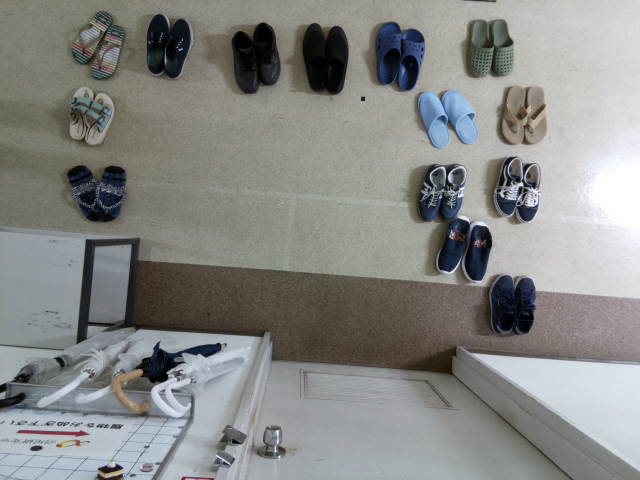Copy of Copy of Copy of Copy of Copy of Copy of Copy of Copy of Copy of Copy of: (296, 17, 334, 97), (249, 16, 287, 96), (223, 26, 261, 106), (159, 14, 199, 90), (318, 21, 356, 100), (68, 6, 115, 66), (441, 86, 484, 150), (413, 88, 456, 151), (372, 18, 407, 88), (141, 9, 175, 81), (90, 18, 128, 82), (394, 25, 430, 92), (485, 15, 521, 78), (462, 17, 497, 80), (93, 162, 128, 224), (83, 88, 117, 150), (64, 160, 98, 222), (63, 84, 95, 146)
Copy of Copy of Copy of Copy of Copy of Copy of Copy of Copy of Copy of shoe: (497, 80, 528, 148)
Copy of Copy of Copy of Copy of Copy of Copy of Copy of Copy of shoe: (518, 83, 549, 151)
Copy of Copy of Copy of Copy of Copy of Copy of Copy of shoe: (511, 160, 548, 228)
Copy of Copy of Copy of Copy of Copy of Copy of shoe: (489, 153, 526, 220)
Copy of Copy of Copy of Copy of Copy of shoe: (436, 158, 472, 222)
Copy of Copy of Copy of Copy of shoe: (411, 159, 448, 223)
Copy of Copy of Copy of shoe: (432, 213, 471, 280)
Copy of Copy of shoe: (459, 219, 498, 286)
Copy of shoe: (484, 272, 518, 341)
shoe: (507, 272, 539, 338)
